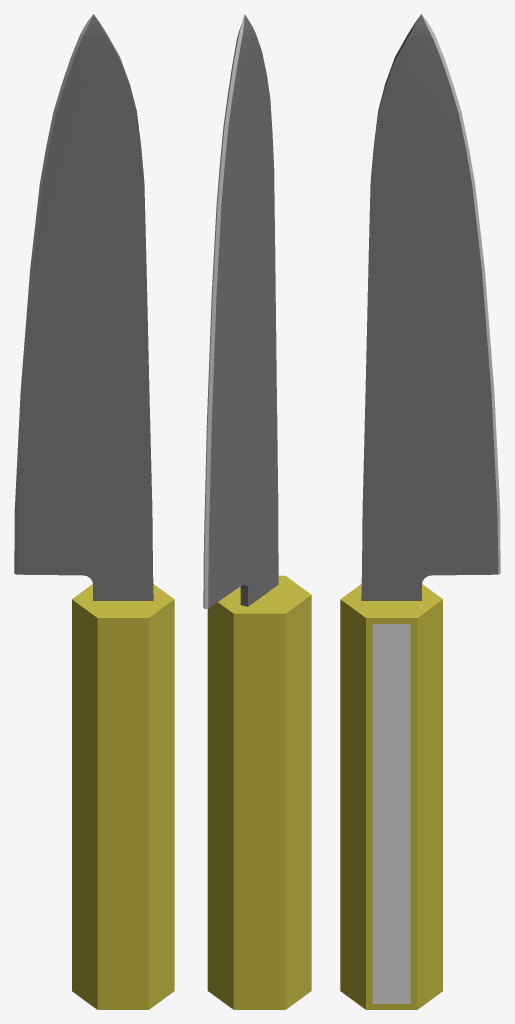
Rendered from cuchillo3.fbx.
3 views of the same model, side by side, from view 1: azimuth 90°, elevation 25°; view 2: azimuth 150°, elevation 25°; view 3: azimuth 270°, elevation 25° (orthographic).
Visible parts, largest first — view 1: cuchillo3; view 2: cuchillo3; view 3: cuchillo3.
Part boxes in pixels (x1,y1,x2,y2): cuchillo3: [14, 14, 174, 1009]; cuchillo3: [203, 14, 311, 1009]; cuchillo3: [340, 14, 500, 1009].
Bounding box in the file's own units: 10.01 × 121 × 18.02.
